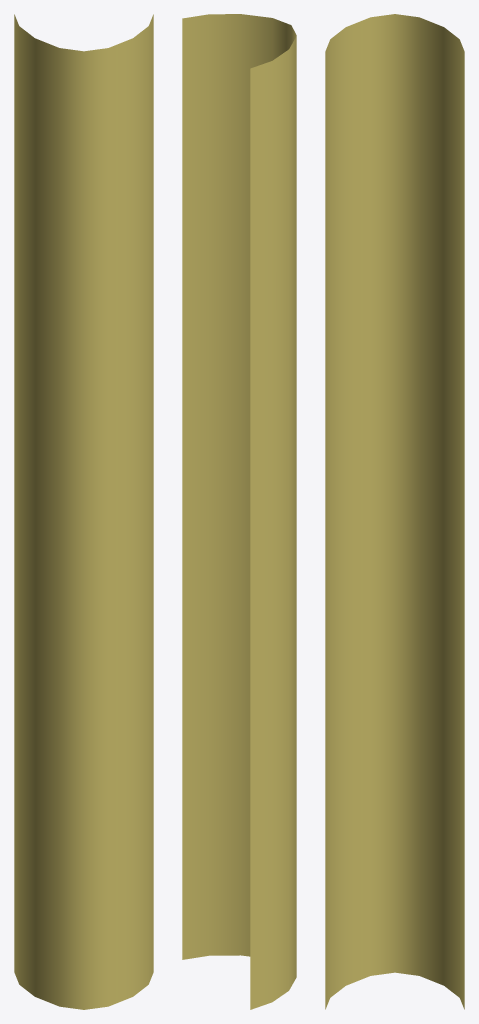
File: central-canal.glb
The picture shows the model from 3 angles, left to right: view 1: azimuth 90°, elevation 25°; view 2: azimuth 210°, elevation 25°; view 3: azimuth 270°, elevation 25°; orthographic projection.
Visible parts, largest first — view 1: Central canal; view 2: Central canal; view 3: Central canal.
Boxes of the visible parts, x1=… form: Central canal: x1=14, y1=14, x2=153, y2=1009; Central canal: x1=182, y1=14, x2=296, y2=1009; Central canal: x1=325, y1=14, x2=464, y2=1009.
Bounding box in the file's own units: 0.000417 × 0.005 × 0.000657.
